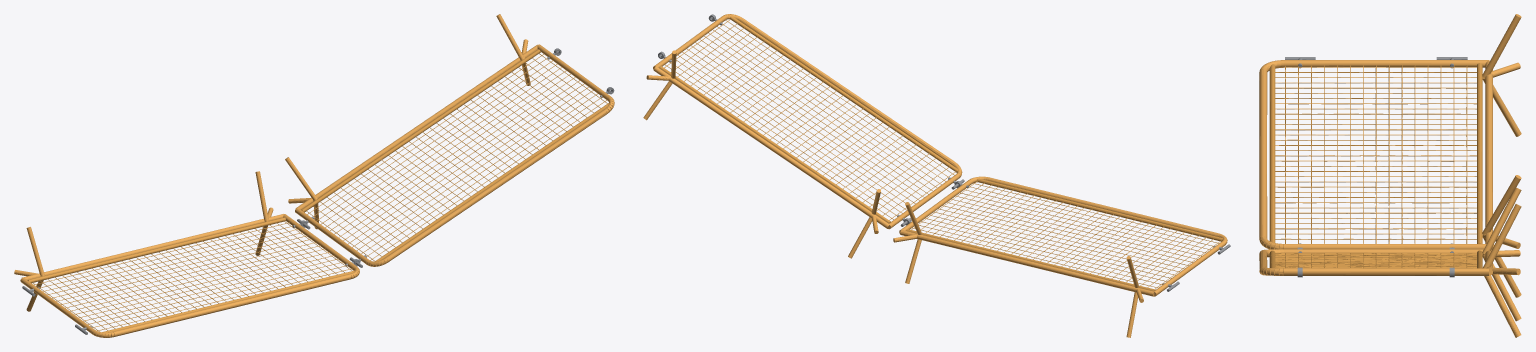
The model's file is size-panel_len_scale-1.06.glb.
3 renders of one model, left to right at view 1: azimuth 30°, elevation 25°; view 2: azimuth 150°, elevation 25°; view 3: azimuth 270°, elevation 25°, orthographic. The views are drawn at different scales.
Parts seen in each view (by area): view 1: panel_0__infill, panel_0__frame, panel_0__eye_top; view 2: panel_0__infill, panel_0__frame; view 3: panel_0__infill, panel_0__frame, panel_0__eye_top.
Boxes of the visible parts, x1,y1,x2,y2 form: panel_0__infill: [27, 49, 609, 332]; panel_0__frame: [14, 14, 614, 337]; panel_0__eye_top: [22, 48, 614, 334]; panel_0__infill: [659, 16, 1222, 291]; panel_0__frame: [643, 14, 1227, 337]; panel_0__infill: [1269, 63, 1482, 268]; panel_0__frame: [1259, 14, 1521, 337]; panel_0__eye_top: [1285, 57, 1467, 277].
Size of the model in its own units: 4.33 by 1.41 by 1.28.
